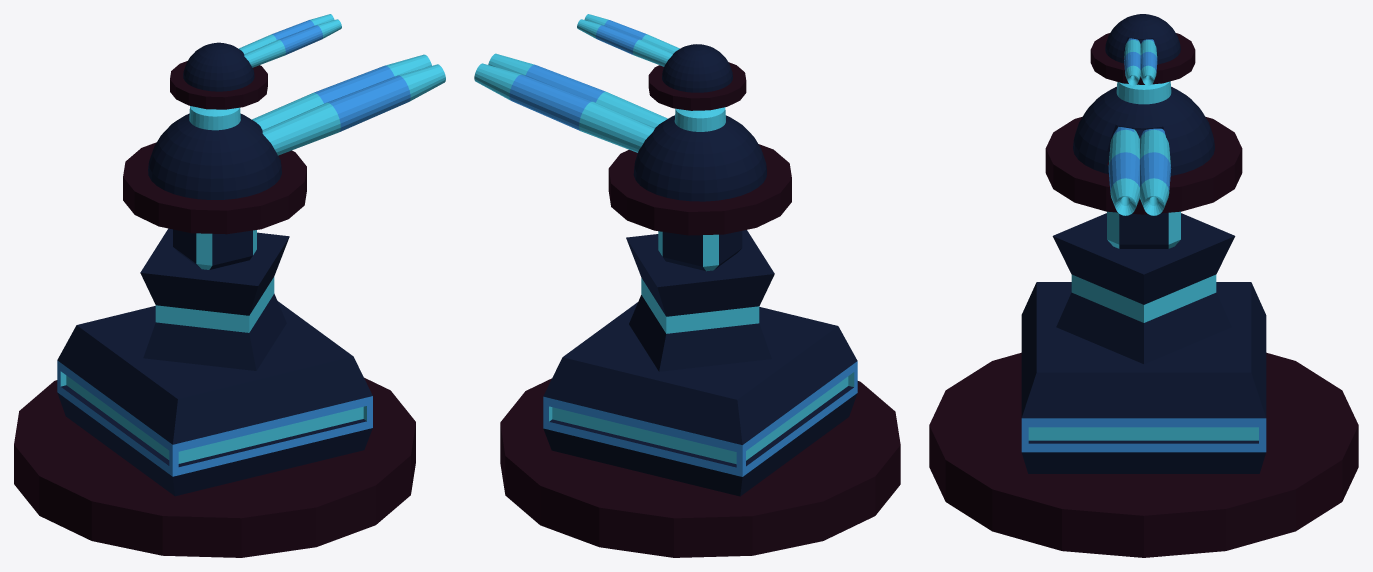
Rendered from HydrogenTurret2.fbx.
3 renders of one model, left to right at view 1: azimuth 30°, elevation 25°; view 2: azimuth 150°, elevation 25°; view 3: azimuth 270°, elevation 25°, orthographic. The views are drawn at different scales.
Parts seen in each view (by area): view 1: Cube, Cylinder, Cube.001, Sphere, Cylinder.001, Torus, Sphere.001, Torus.001, Cube.002, Cylinder.002, Torus.003, Torus.002; view 2: Cube, Cylinder, Cube.001, Sphere, Cylinder.001, Torus.001, Sphere.001, Torus, Cube.002, Cylinder.002, Torus.002, Torus.003; view 3: Cylinder, Cube, Cube.001, Sphere, Cylinder.001, Cube.002, Torus, Torus.001, Sphere.001, Cylinder.002, Torus.002, Torus.003.
Part boxes in pixels (<box>): Cube: <box>57,301,372,496</box>; Cylinder: <box>14,377,415,557</box>; Cube.001: <box>140,228,289,370</box>; Sphere: <box>148,106,281,199</box>; Cylinder.001: <box>123,142,306,234</box>; Torus: <box>262,64,445,155</box>; Sphere.001: <box>183,42,254,91</box>; Torus.001: <box>252,54,431,130</box>; Cube.002: <box>173,229,256,269</box>; Cylinder.002: <box>170,61,267,109</box>; Torus.003: <box>244,19,341,67</box>; Torus.002: <box>239,14,334,54</box>; Cube: <box>543,302,857,496</box>; Cylinder: <box>500,378,900,557</box>; Cube.001: <box>626,230,774,371</box>; Sphere: <box>633,107,766,201</box>; Cylinder.001: <box>608,144,791,235</box>; Torus.001: <box>474,63,654,152</box>; Sphere.001: <box>662,44,732,92</box>; Torus: <box>488,53,667,128</box>; Cube.002: <box>658,231,742,271</box>; Cylinder.002: <box>648,62,746,110</box>; Torus.002: <box>577,19,672,66</box>; Torus.003: <box>584,14,679,53</box>; Cylinder: <box>929,352,1358,557</box>; Cube: <box>1021,282,1266,473</box>; Cube.001: <box>1052,213,1235,363</box>; Sphere: <box>1073,81,1214,175</box>; Cylinder.001: <box>1045,117,1242,214</box>; Cube.002: <box>1107,211,1180,248</box>; Torus: <box>1108,127,1139,215</box>; Torus.001: <box>1140,128,1171,215</box>; Sphere.001: <box>1105,14,1180,64</box>; Cylinder.002: <box>1090,33,1195,84</box>; Torus.002: <box>1140,39,1157,85</box>; Torus.003: <box>1124,38,1140,85</box>.
Size of the model in its own units: 673 by 699 by 600.
